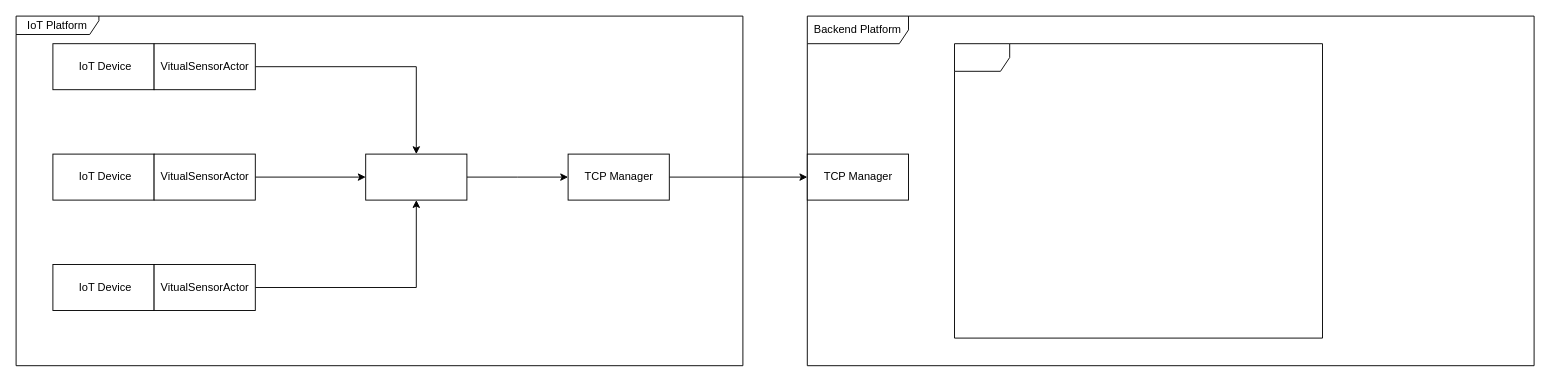
The diagram is 1550 pixels wide and 382 high, and some of its shapes have lost their labels. Each missing label, with the centre of its shape:
"Gateway Actor" goes at point 416,176.
"Kafka" goes at point 1138,190.
